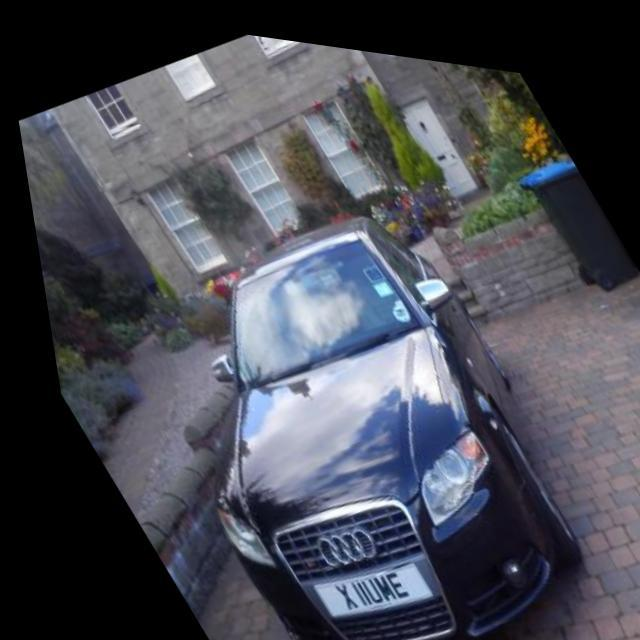license_plate: (290, 528, 422, 634)
